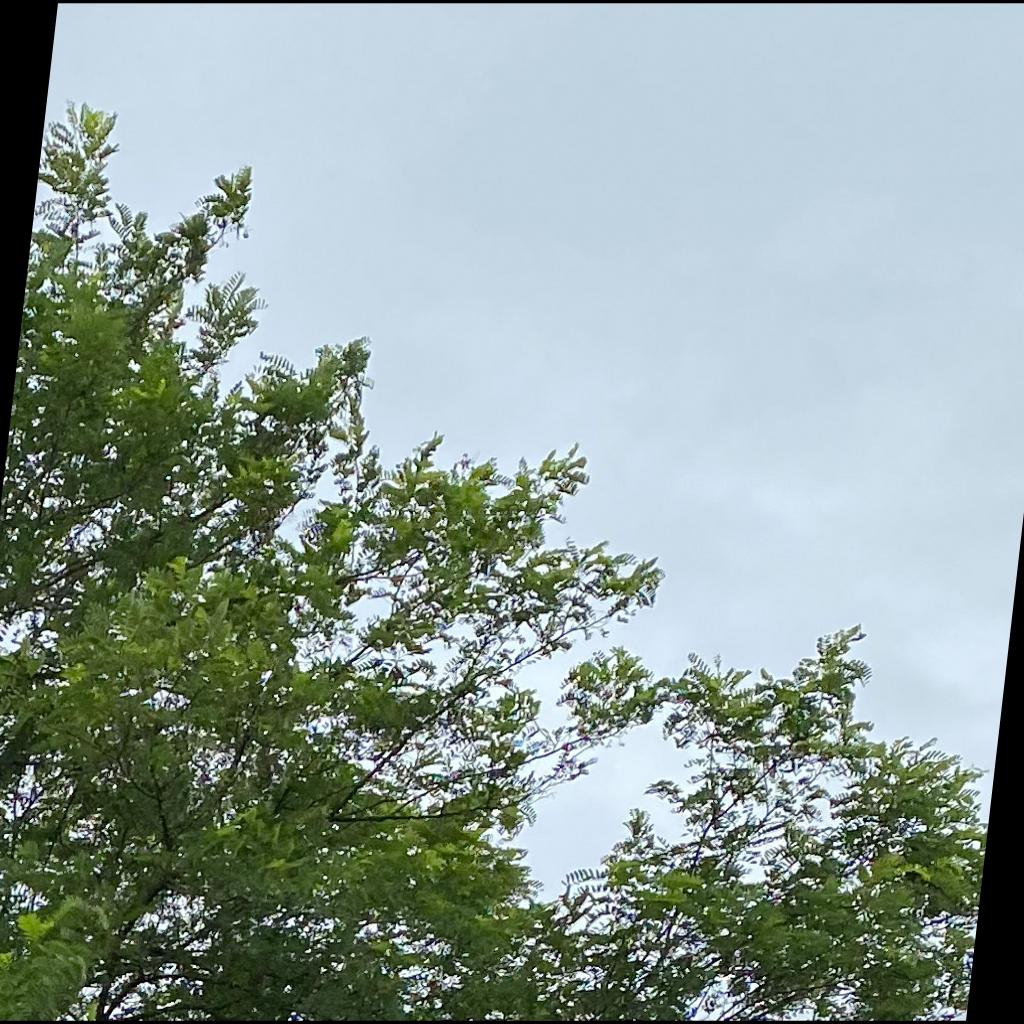tree: (1, 98, 992, 1022)
